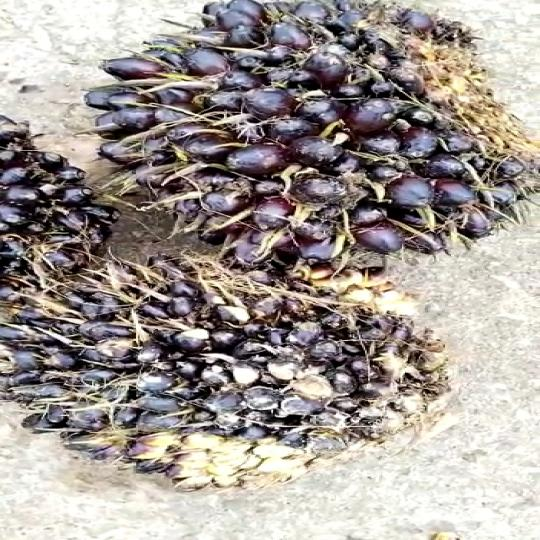mentah: (74, 5, 540, 288), (0, 258, 459, 472)
